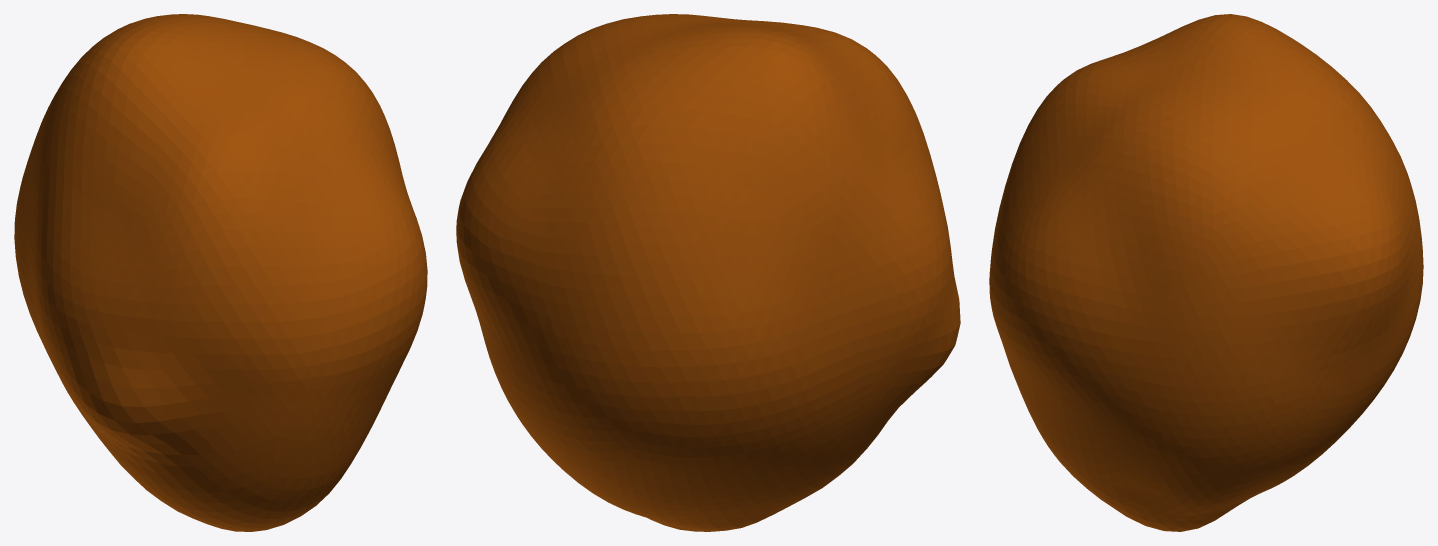
The model's file is suckyAsteroid.fbx.
3 renders of one model, left to right at view 1: azimuth 30°, elevation 25°; view 2: azimuth 150°, elevation 25°; view 3: azimuth 270°, elevation 25°, orthographic. The views are drawn at different scales.
Visible parts, largest first — view 1: Icosphere; view 2: Icosphere; view 3: Icosphere.
Part boxes in pixels (left/top/right/bottom): Icosphere: left=14, top=14, right=427, bottom=531; Icosphere: left=456, top=14, right=960, bottom=531; Icosphere: left=989, top=14, right=1423, bottom=531.
Size of the model in its own units: 226 by 288 by 243.
